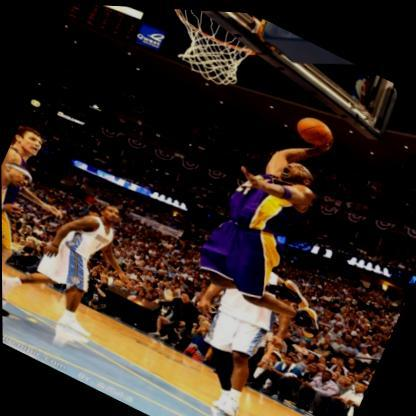basketball: (291, 107, 336, 148)
rim: (151, 6, 263, 92)
